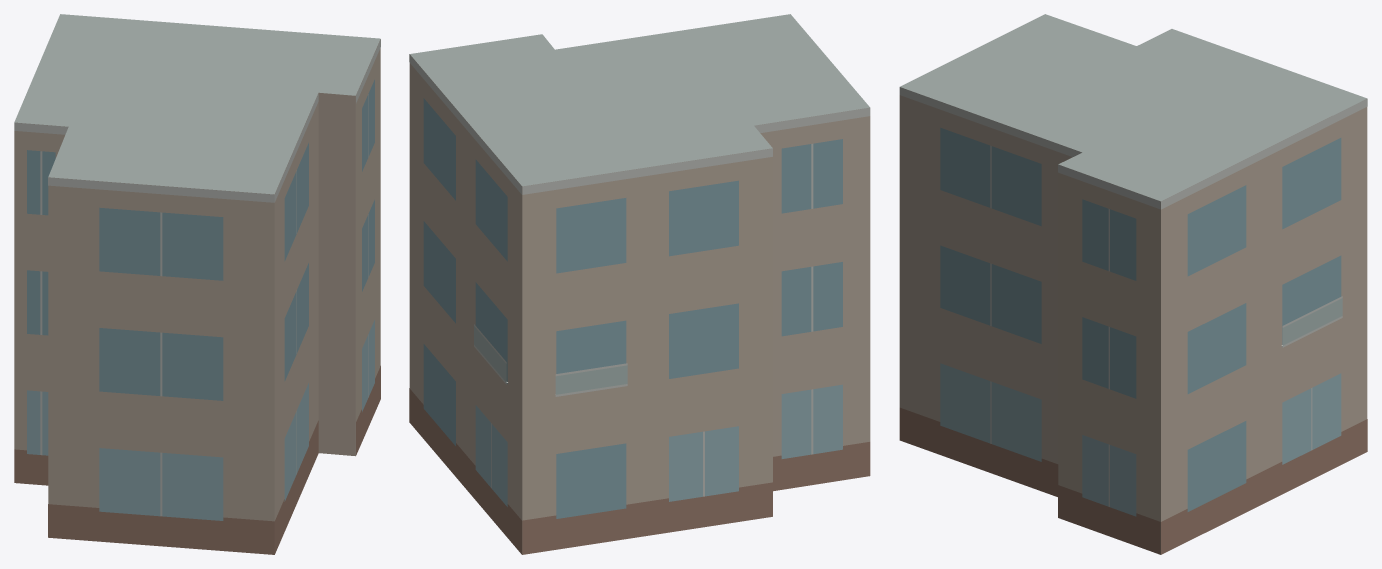
The model's file is survey-upis-32671080.glb.
3 renders of one model, left to right at view 1: azimuth 30°, elevation 25°; view 2: azimuth 150°, elevation 25°; view 3: azimuth 270°, elevation 25°, orthographic. The views are drawn at different scales.
Parts seen in each view (by area): view 1: survey-upis-32671080.tmp; view 2: survey-upis-32671080.tmp; view 3: survey-upis-32671080.tmp.
Boxes of the visible parts, x1,y1,x2,y2 form: survey-upis-32671080.tmp: [14, 14, 380, 554]; survey-upis-32671080.tmp: [409, 14, 870, 554]; survey-upis-32671080.tmp: [899, 14, 1367, 554].
Size of the model in its own units: 12.01 by 10.55 by 12.66.
